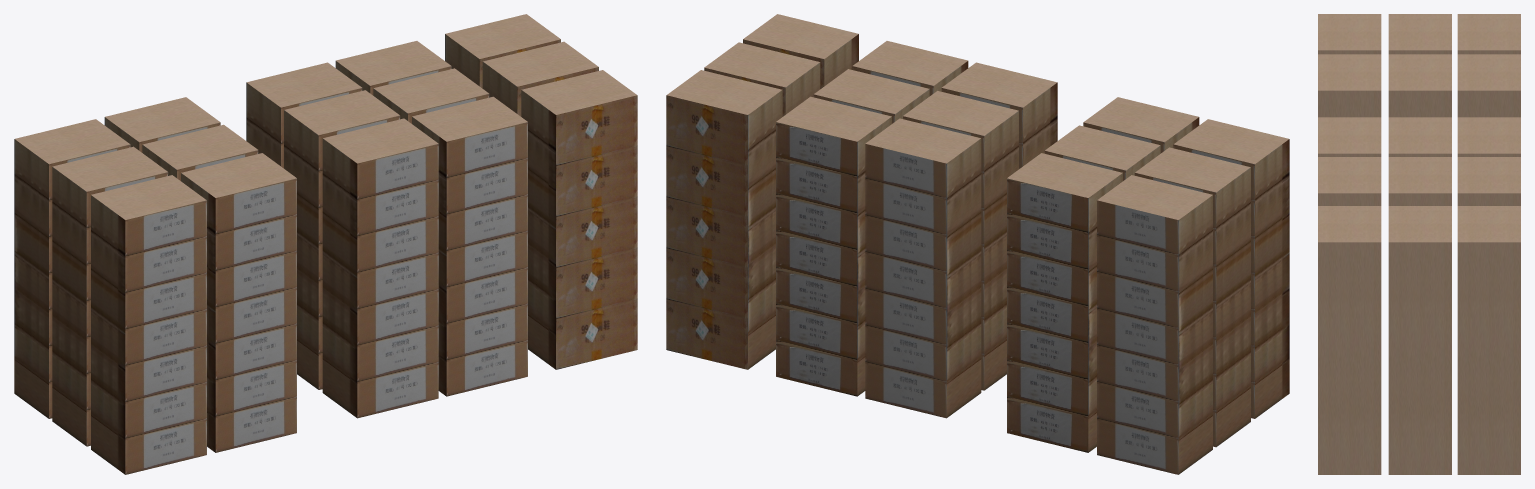
The model's file is jiaoxie.FBX.
3 views of the same model, side by side, from view 1: azimuth 30°, elevation 25°; view 2: azimuth 150°, elevation 25°; view 3: azimuth 270°, elevation 25° (orthographic). The views are drawn at different scales.
Visible parts, largest first — view 1: Box3833, 对象33; view 2: Box3833, 对象33; view 3: 对象33, Box3833.
Part boxes in pixels (left/top/right/bottom): Box3833: left=14, top=41, right=527, bottom=474; 对象33: left=445, top=14, right=637, bottom=369; Box3833: left=776, top=41, right=1289, bottom=474; 对象33: left=666, top=14, right=858, bottom=369; 对象33: left=1318, top=206, right=1520, bottom=474; Box3833: left=1318, top=14, right=1520, bottom=205.
Size of the model in its own units: 2.47 by 0.926 by 1.17.
